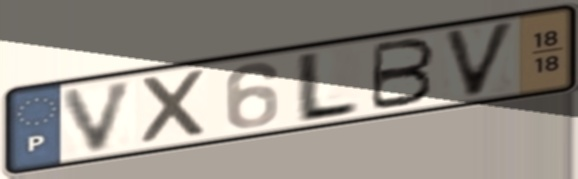6: (221, 59, 282, 131)
B: (366, 35, 439, 114)
L: (290, 48, 364, 127)
V: (439, 17, 520, 101), (58, 76, 141, 156)
X: (138, 65, 212, 149)
